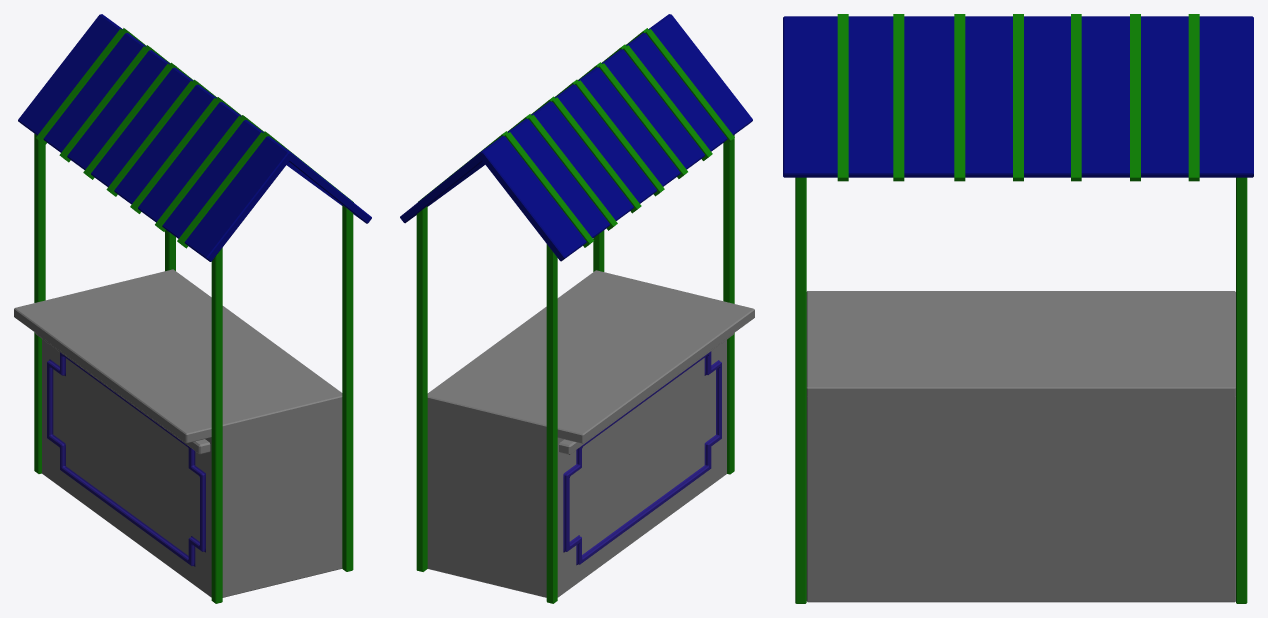
File: Qin Market Stand.fbx
3 views of the same model, side by side, from view 1: azimuth 30°, elevation 25°; view 2: azimuth 150°, elevation 25°; view 3: azimuth 270°, elevation 25° (orthographic). The views are drawn at different scales.
Visible parts, largest first — view 1: pCube1 (×2), pCube7, pCube17, pCube4, pCube25, pCube16, pCube8, pCube6; view 2: pCube1 (×2), pCube7, pCube17, pCube16, pCube25, pCube4, pCube8, pCube6, pCube26; view 3: pCube1, pCube8, pCube7, pCube26, pCube4, pCube16.
Boxes of the visible parts, x1,y1,x2,y2 form: pCube1 (×2): [42, 339, 342, 597]; pCube7: [14, 269, 342, 443]; pCube17: [18, 14, 289, 261]; pCube4: [211, 205, 353, 603]; pCube25: [36, 29, 267, 248]; pCube16: [34, 133, 175, 473]; pCube8: [101, 14, 371, 223]; pCube6: [35, 332, 210, 454]; pCube1 (×2): [427, 340, 726, 597]; pCube7: [427, 270, 754, 443]; pCube17: [479, 14, 752, 261]; pCube16: [416, 206, 557, 603]; pCube25: [504, 29, 734, 247]; pCube4: [593, 135, 734, 474]; pCube8: [400, 14, 669, 223]; pCube6: [559, 333, 733, 454]; pCube26: [418, 28, 648, 201]; pCube1: [806, 396, 1235, 602]; pCube8: [783, 17, 1253, 177]; pCube7: [806, 291, 1235, 396]; pCube26: [837, 16, 1199, 181]; pCube4: [795, 177, 806, 603]; pCube16: [1236, 177, 1247, 603].
Size of the model in its own units: 1.82 by 4.25 by 3.31.
